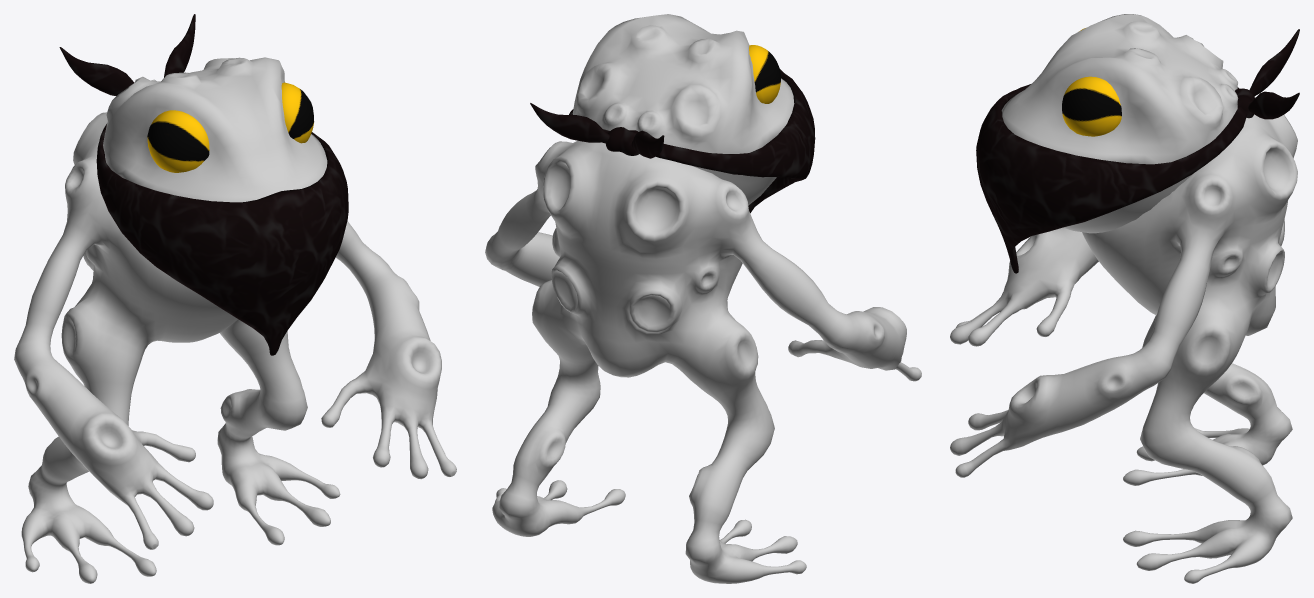
The model's file is Frog_LP.fbx.
3 views of the same model, side by side, from view 1: azimuth 30°, elevation 25°; view 2: azimuth 150°, elevation 25°; view 3: azimuth 270°, elevation 25° (orthographic). The views are drawn at different scales.
Visible parts, largest first — view 1: Frog_Body_LP, Bandana_LP, Frog_Head_LP, Frog_Eyes_LP, Bandana_Tails_LP; view 2: Frog_Body_LP, Frog_Head_LP, Bandana_LP, Bandana_Tails_LP, Frog_Eyes_LP, Bandana_Knot_LP; view 3: Frog_Body_LP, Frog_Head_LP, Bandana_LP, Frog_Eyes_LP, Bandana_Tails_LP.
Part boxes in pixels (box(x1,y1,x2,y2)): Frog_Body_LP: box(14, 112, 456, 583); Bandana_LP: box(96, 124, 348, 355); Frog_Head_LP: box(103, 57, 327, 202); Frog_Eyes_LP: box(147, 82, 314, 172); Bandana_Tails_LP: box(59, 14, 195, 96); Frog_Body_LP: box(485, 140, 921, 583); Frog_Head_LP: box(572, 14, 794, 205); Bandana_LP: box(569, 69, 815, 213); Bandana_Tails_LP: box(530, 103, 664, 158); Frog_Eyes_LP: box(749, 45, 780, 103); Bandana_Knot_LP: box(605, 127, 638, 155); Frog_Body_LP: box(950, 97, 1297, 583); Frog_Head_LP: box(1001, 14, 1238, 233); Bandana_LP: box(976, 84, 1247, 273); Frog_Eyes_LP: box(1062, 28, 1121, 136); Bandana_Tails_LP: box(1248, 29, 1299, 119).
Size of the model in its own units: 1020 by 1248 by 828.
